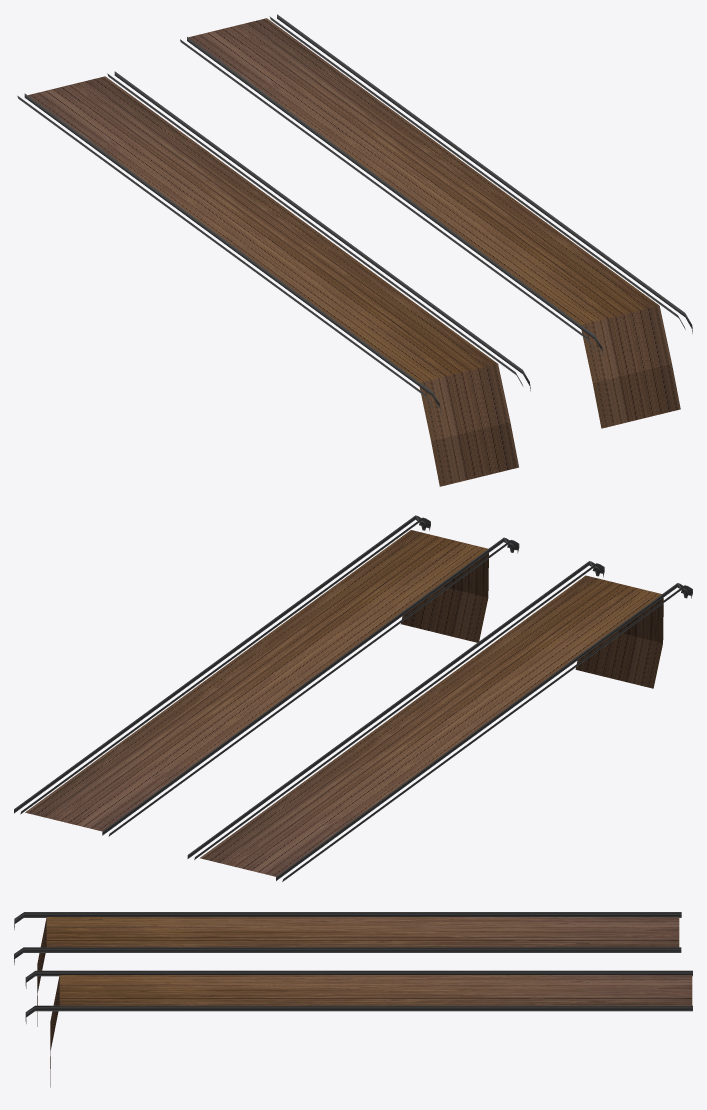
The model's file is scene_de_bowling.glb.
The picture shows the model from 3 angles, top to bottom: view 1: azimuth 30°, elevation 25°; view 2: azimuth 150°, elevation 25°; view 3: azimuth 270°, elevation 25°; orthographic projection. The views are drawn at different scales.
Parts seen in each view (by area): view 1: Plane.005, Plane.006, Plane.004, Plane.002, Plane.003, Plane.001; view 2: Plane.005, Plane.006, Plane.003, Plane.001, Plane.002, Plane.004; view 3: Plane.005, Plane.006, Plane.002, Plane.003, Plane.001, Plane.004.
Boxes of the visible parts, x1,y1,x2,y2 form: Plane.005: [188, 18, 680, 428]; Plane.006: [28, 76, 518, 486]; Plane.004: [17, 93, 440, 413]; Plane.002: [269, 14, 692, 333]; Plane.003: [107, 71, 530, 391]; Plane.001: [180, 37, 602, 355]; Plane.005: [25, 530, 488, 831]; Plane.006: [200, 575, 663, 876]; Plane.003: [187, 561, 604, 859]; Plane.001: [102, 537, 519, 836]; Plane.002: [14, 515, 430, 814]; Plane.004: [276, 583, 692, 881]; Plane.005: [50, 975, 692, 1087]; Plane.006: [37, 917, 679, 1026]; Plane.002: [25, 1005, 692, 1023]; Plane.003: [14, 947, 681, 964]; Plane.001: [25, 970, 692, 988]; Plane.004: [14, 912, 681, 929].
Size of the model in its own units: 40.45 by 16.24 by 107.
6 materials, 6 textured.
